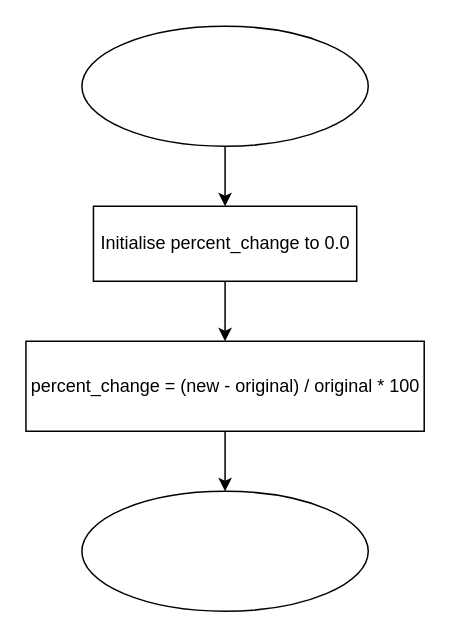
Some shapes in this 452 by 638 pixel diagram are drawn without their labels. The centre of each missing label's shape, as x and y in pixels:
"Return percent_change" belongs at (224,550).
"START calc_percent_change(original: int, new: int)" belongs at (224,85).
